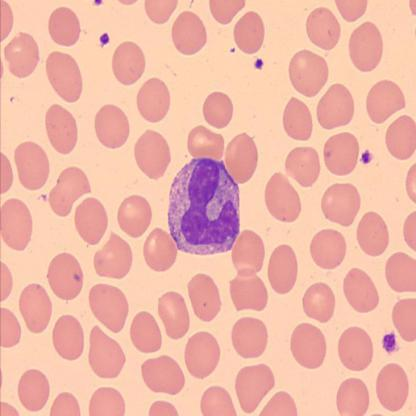Monocyte: (165, 154, 243, 256)
